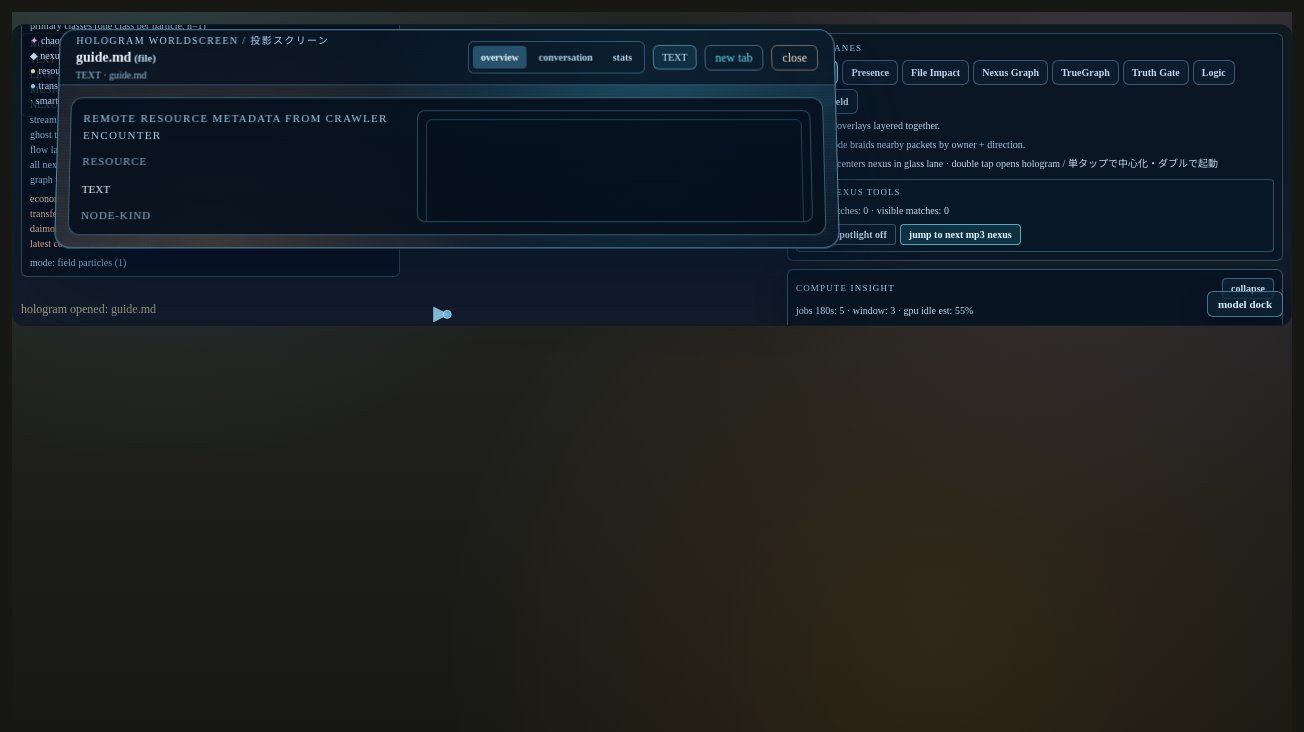
it: SimulationCanvas › opens worldscreen via overlay API, switches modes, and closes on escape
The image size is (1304, 732).
expect the text "hologram worldscreen / 投影スクリーン" is shown: met, box [76,33,329,47]
expect the text "Remote resource metadata from crawler encounter" is shown: met, box [82,110,401,143]
Click the button "conversation" at (565, 57), box [530,46,600,69]
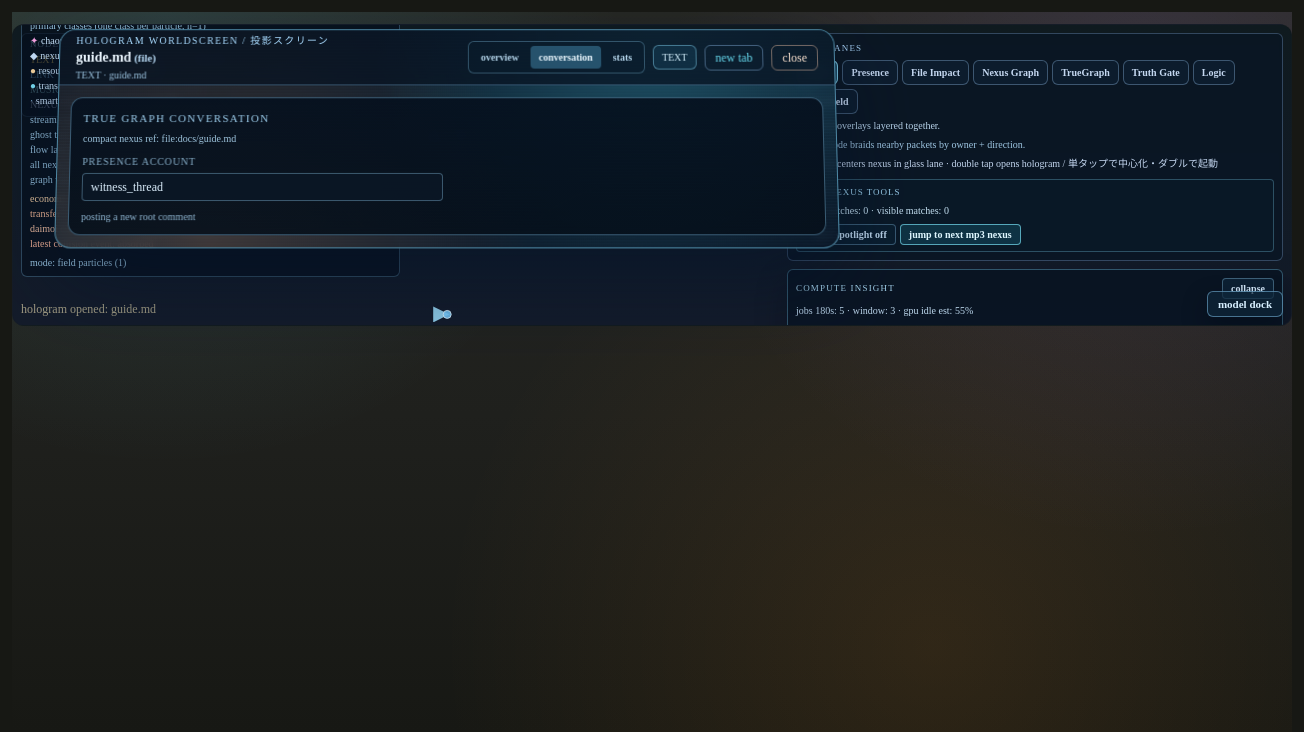
expect the text "true graph conversation" is shown: met, box [83,112,269,124]
Click the button "stats" at (622, 57), box [604,46,640,69]
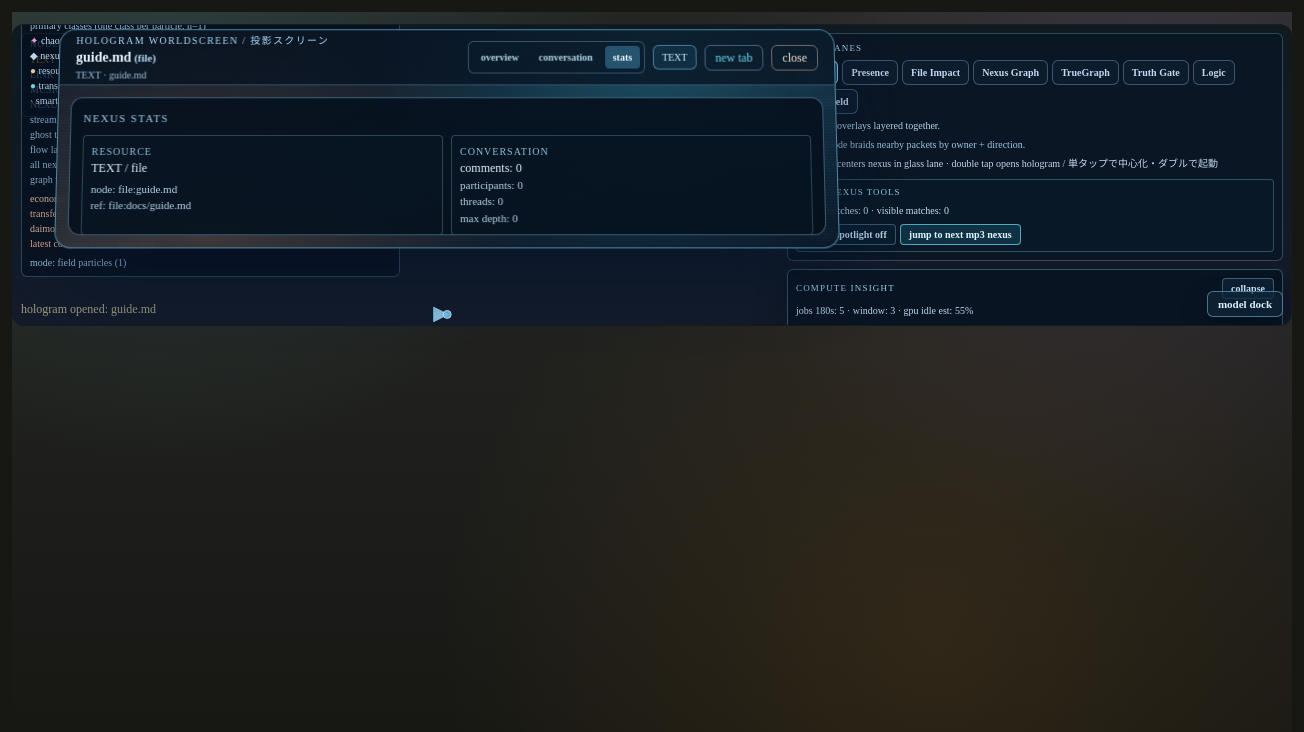
expect the text "nexus stats" is shown: met, box [83,112,168,124]
Press Escape
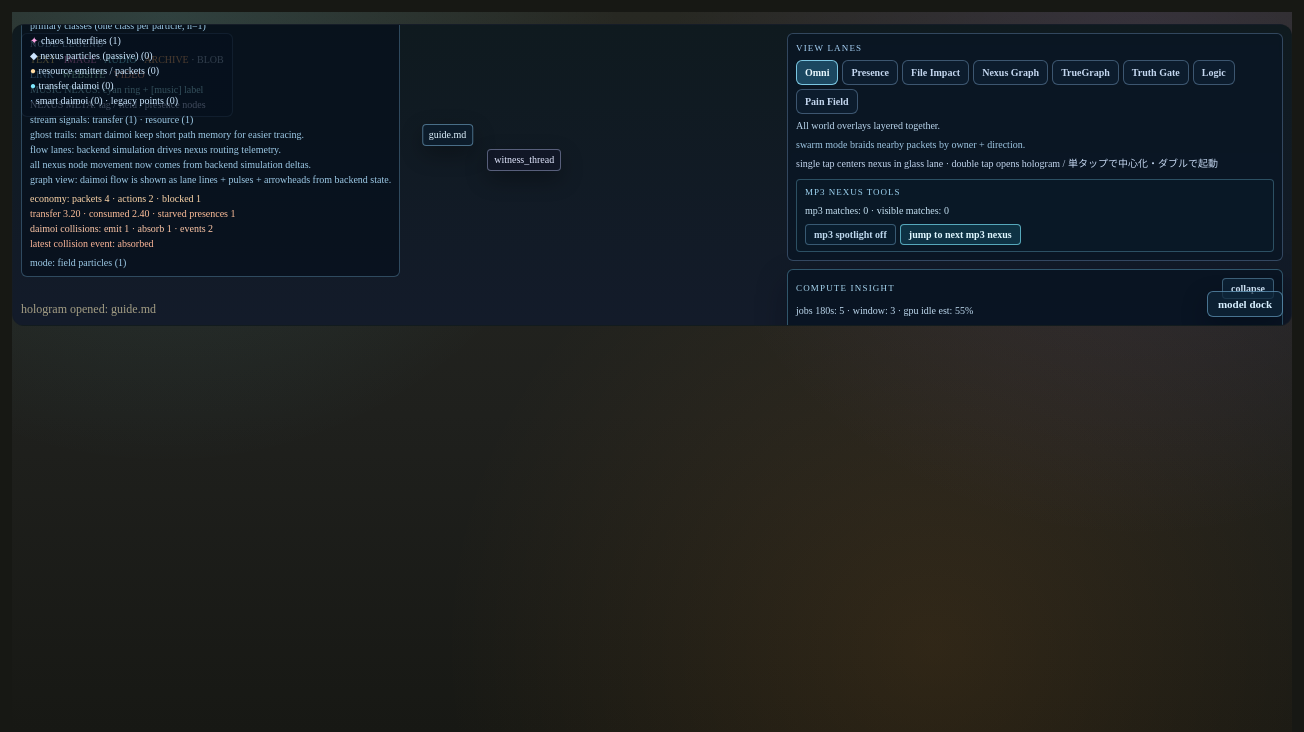
expect the text "hologram worldscreen" is gone: met
